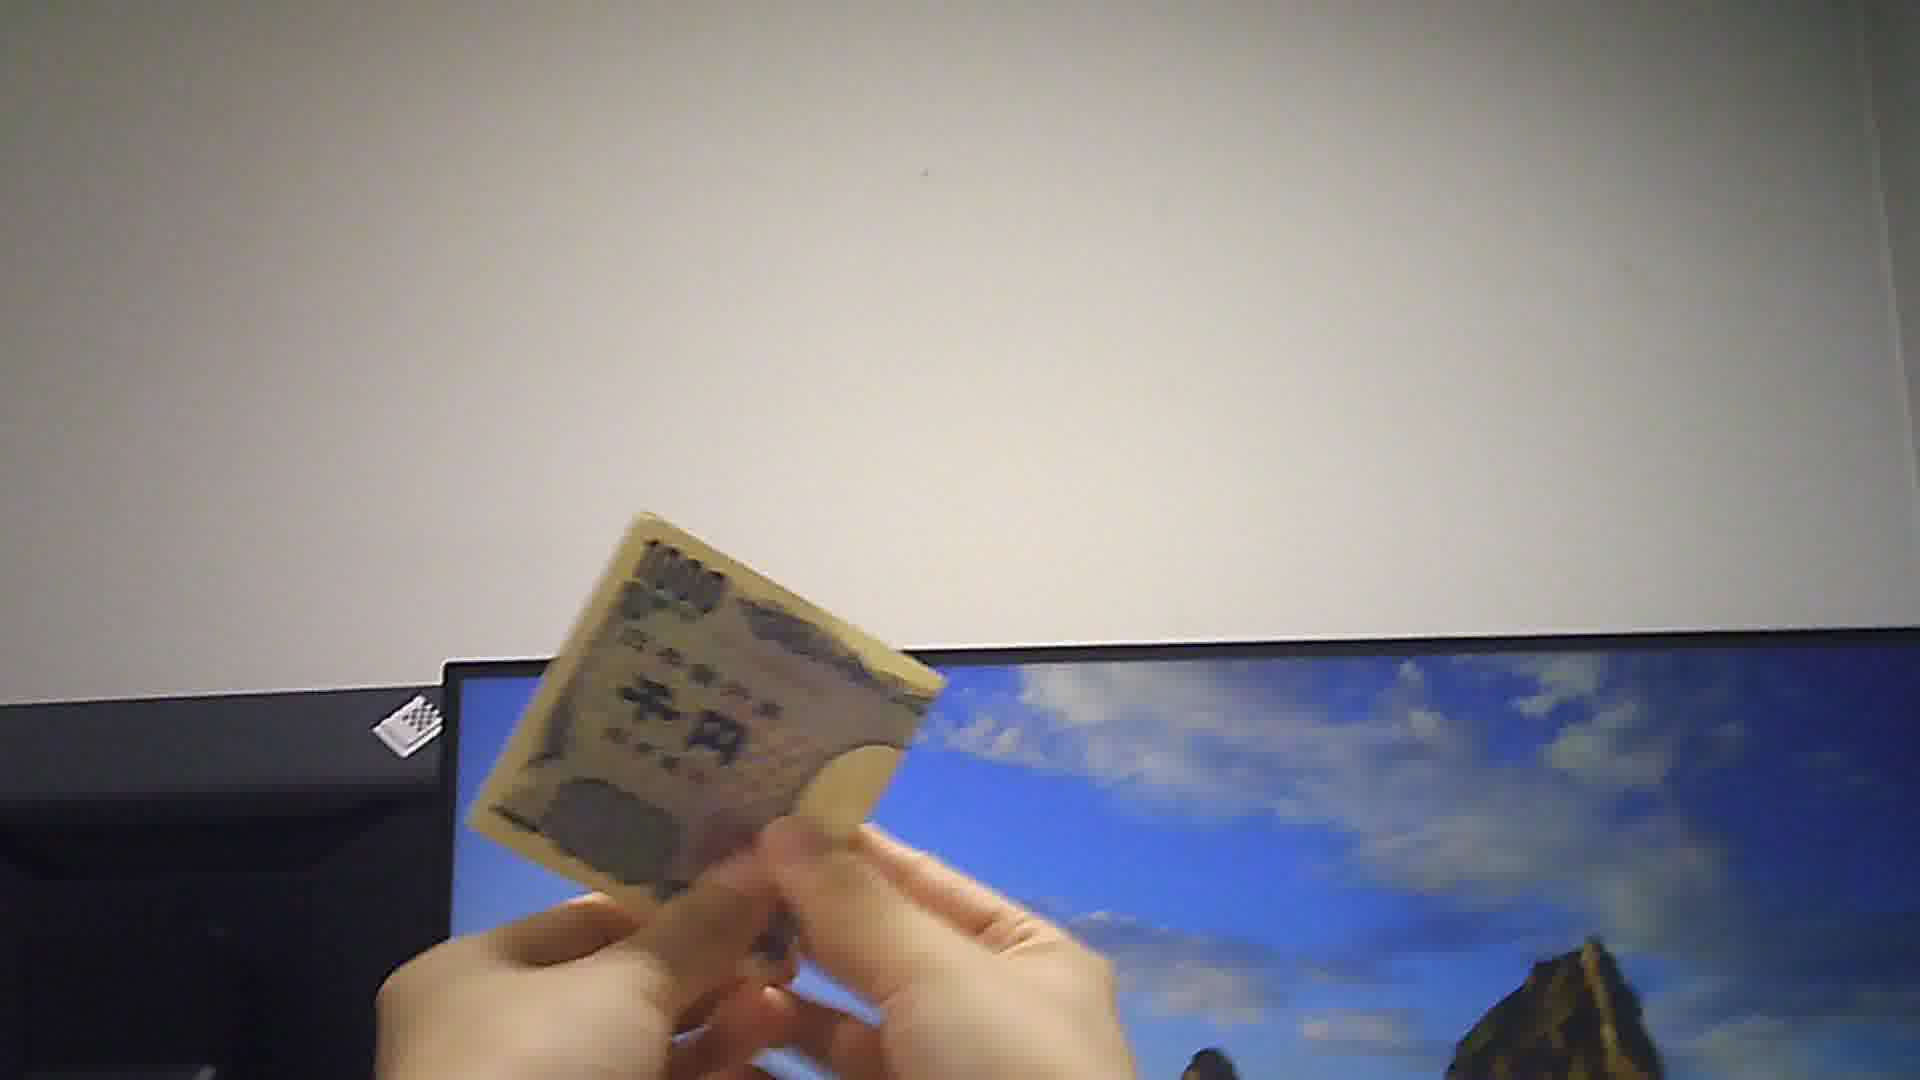1,000 Yen: (452, 505, 942, 976)
